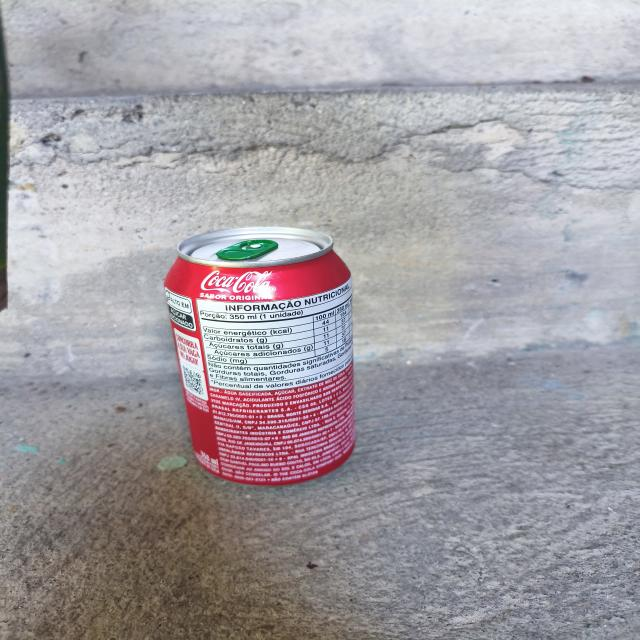Coca Cola: (160, 216, 374, 498)
